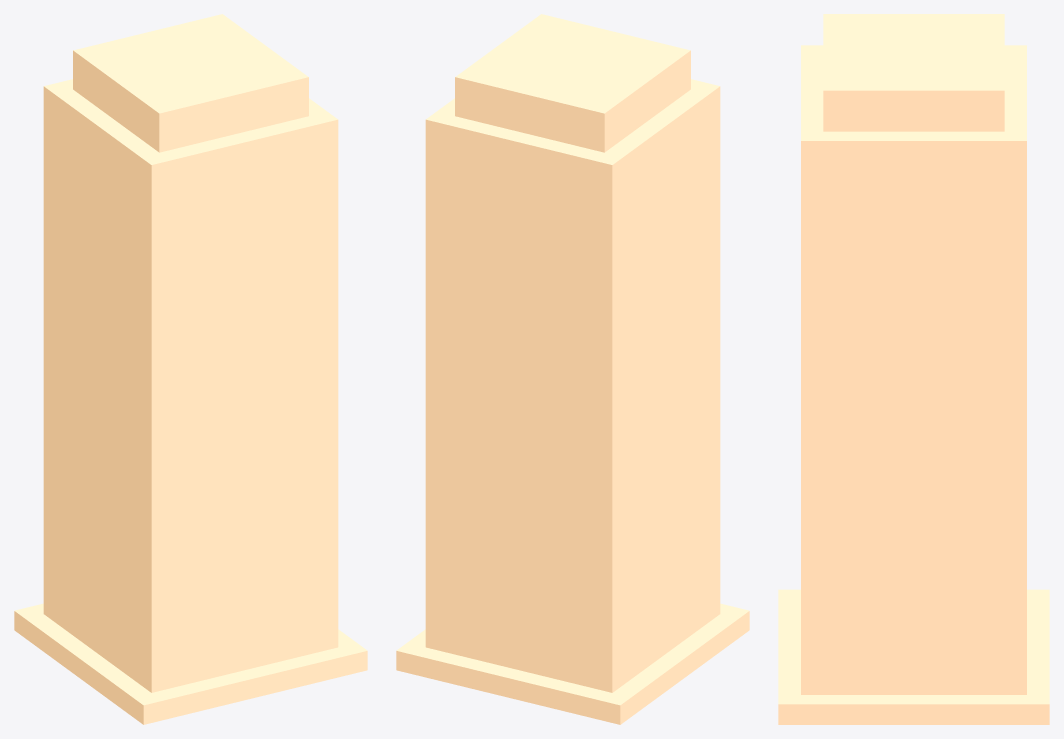
File: building_tower.glb
The picture shows the model from 3 angles, left to right: view 1: azimuth 30°, elevation 25°; view 2: azimuth 150°, elevation 25°; view 3: azimuth 270°, elevation 25°; orthographic projection. The views are drawn at different scales.
Parts seen in each view (by area): view 1: building_tower; view 2: building_tower; view 3: building_tower.
Boxes of the visible parts, x1,y1,x2,y2 form: building_tower: (14, 14, 367, 724); building_tower: (396, 14, 749, 724); building_tower: (778, 14, 1049, 724).
Size of the model in its own units: 12 by 30 by 12.
